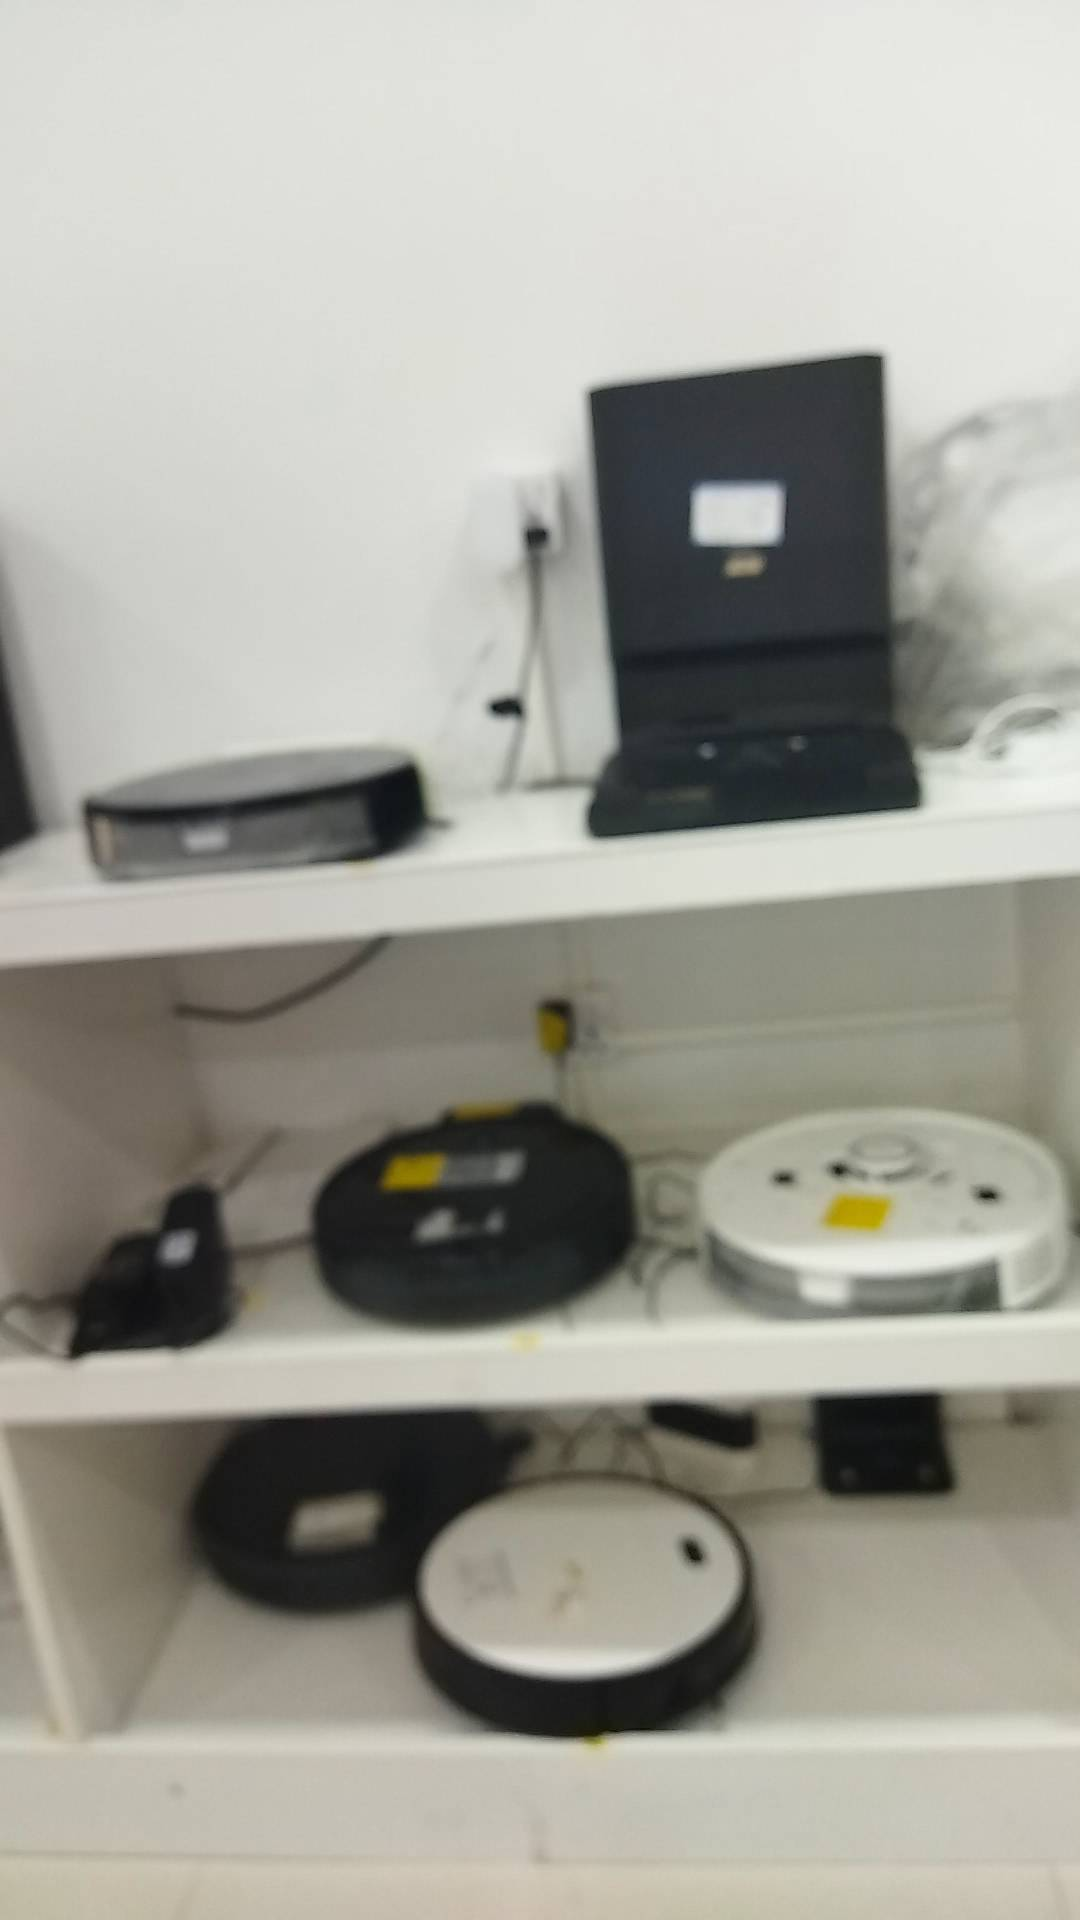dust collecting barrel: (582, 353, 923, 835)
recharge seat: (70, 1184, 239, 1346), (611, 1402, 764, 1505), (814, 1395, 964, 1497)
